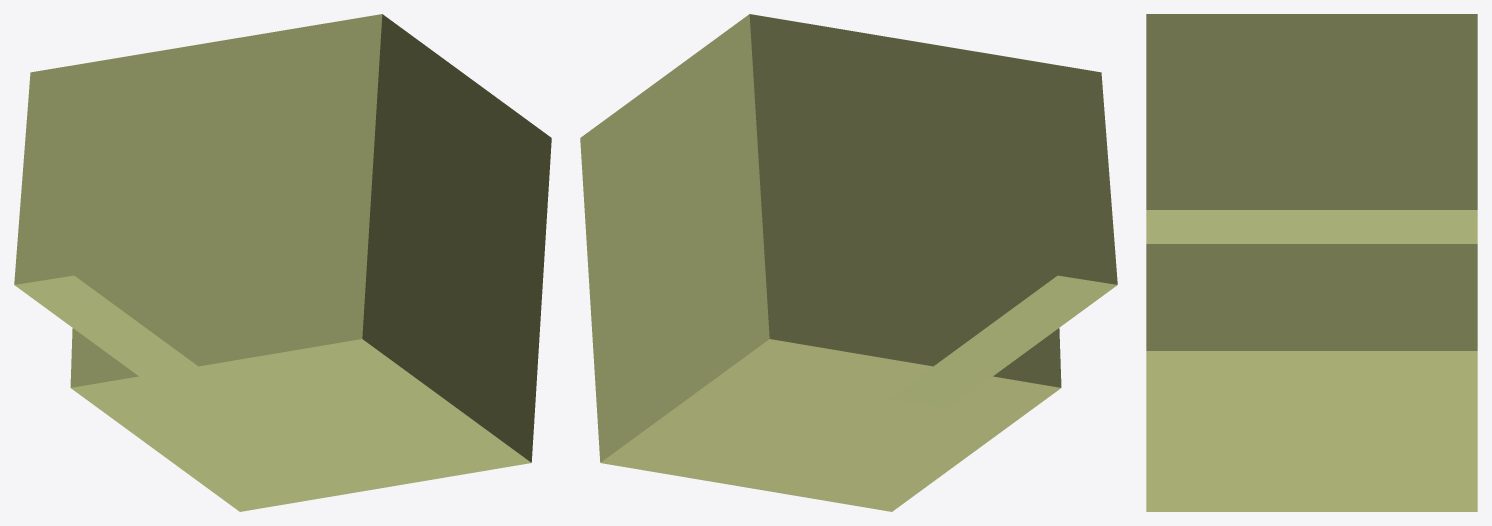
3 renders of one model, left to right at view 1: azimuth 30°, elevation 25°; view 2: azimuth 150°, elevation 25°; view 3: azimuth 270°, elevation 25°, orthographic. The views are drawn at different scales.
Parts seen in each view (by area): view 1: 0_1_2_0_0_2_2_0_3_1_0; view 2: 0_1_2_0_0_2_2_0_3_1_0; view 3: 0_1_2_0_0_2_2_0_3_1_0.
Boxes of the visible parts, bbox=[...] form: 0_1_2_0_0_2_2_0_3_1_0: bbox=[14, 14, 551, 511]; 0_1_2_0_0_2_2_0_3_1_0: bbox=[580, 14, 1117, 511]; 0_1_2_0_0_2_2_0_3_1_0: bbox=[1146, 14, 1477, 511].
Bounding box in the file's own units: 7.53 × 6.79 × 6.
